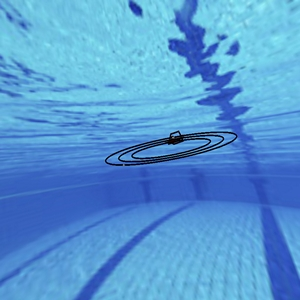circle: (99, 122, 252, 188)
submarine: (160, 125, 187, 150)
